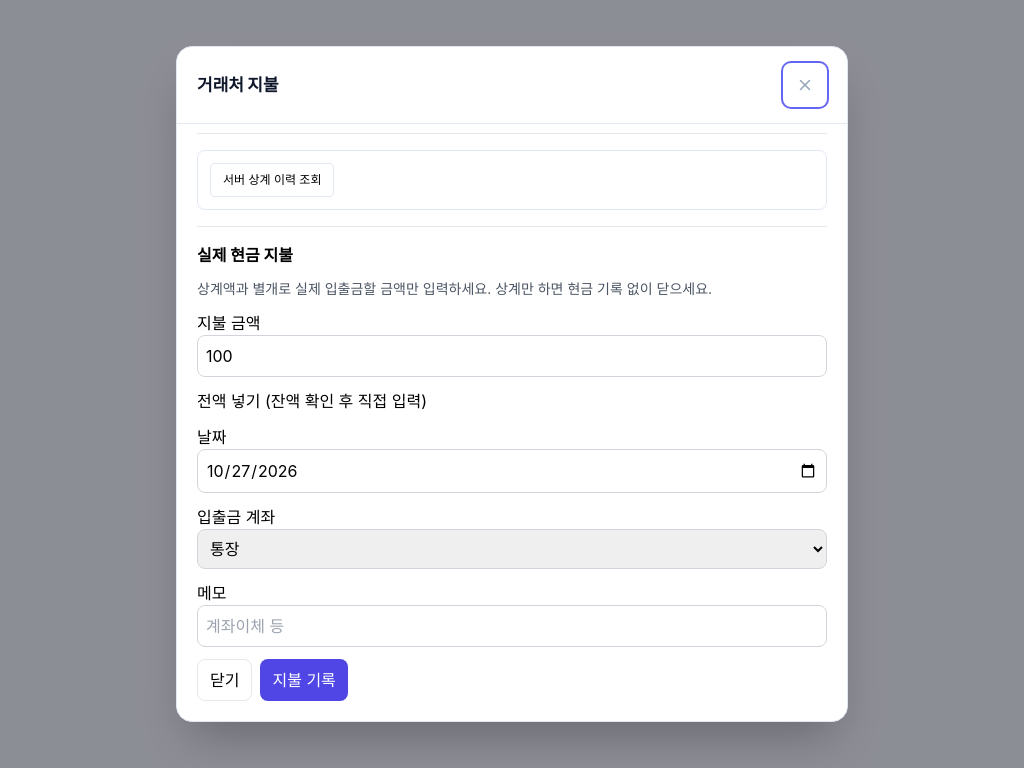
Test: UID변경후현금저장0·전액제안disabled
The width and height of the screenshot is (1024, 768).
(page scrolled)
Expected: the button "전액 넣기 (잔액 확인 후 직접 입력)" is disabled, [197,389,427,413]
Click the button "지불 기록": (304, 680) [260,659,348,701]
(page scrolled)
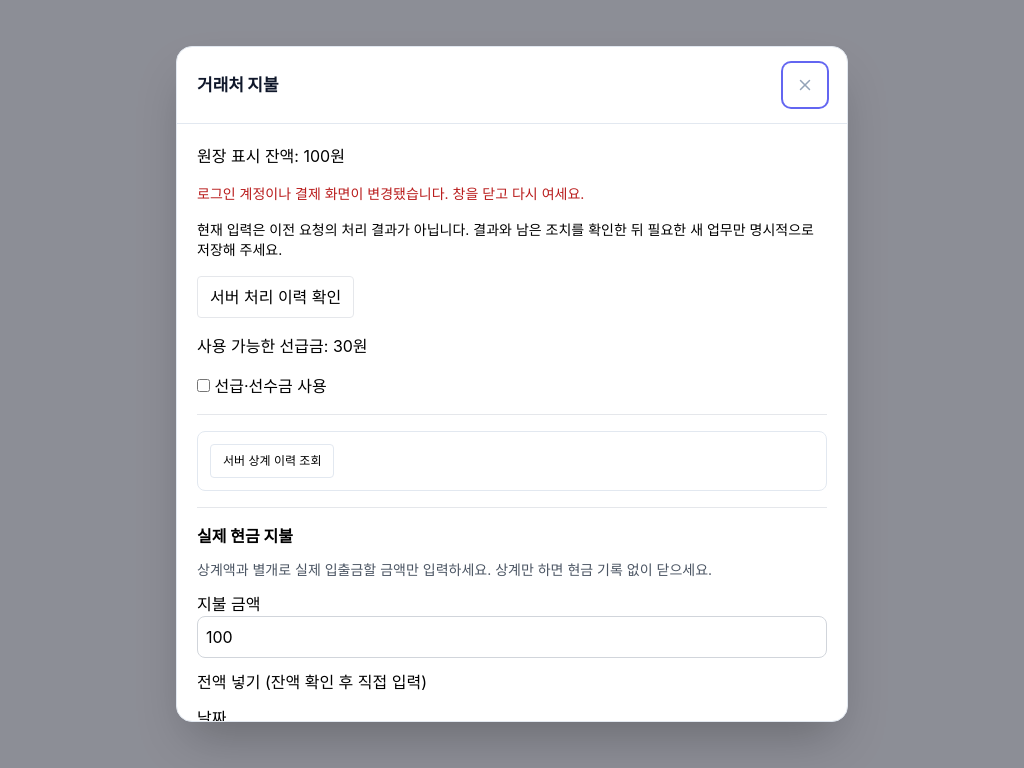
Expected: the message shows "로그인 계정", [197,185,584,202]
